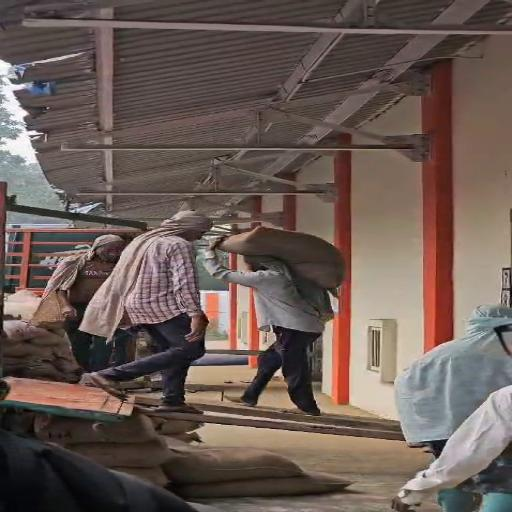bag: (218, 218, 351, 303)
